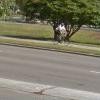Tree: (18, 0, 100, 49)
